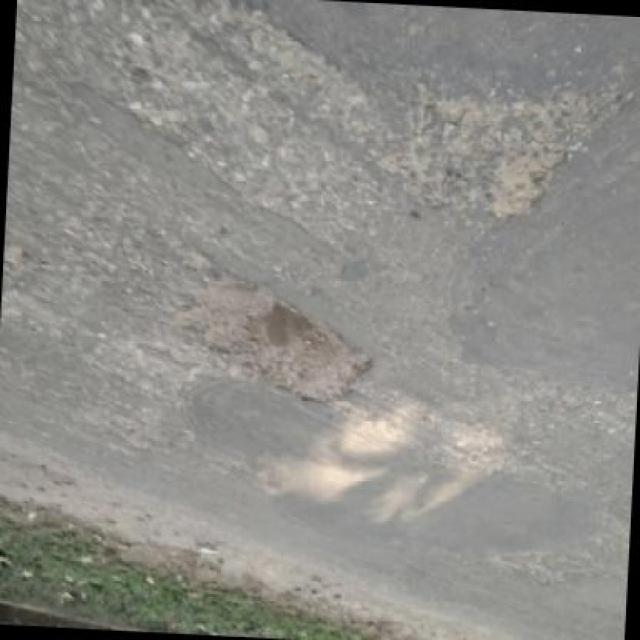pothole1: (166, 268, 382, 408), (486, 140, 572, 229)
